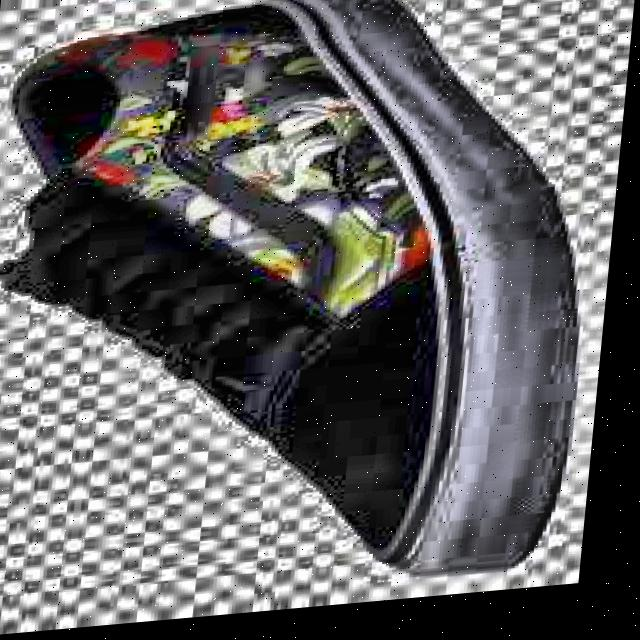shoes: (0, 0, 624, 616)
